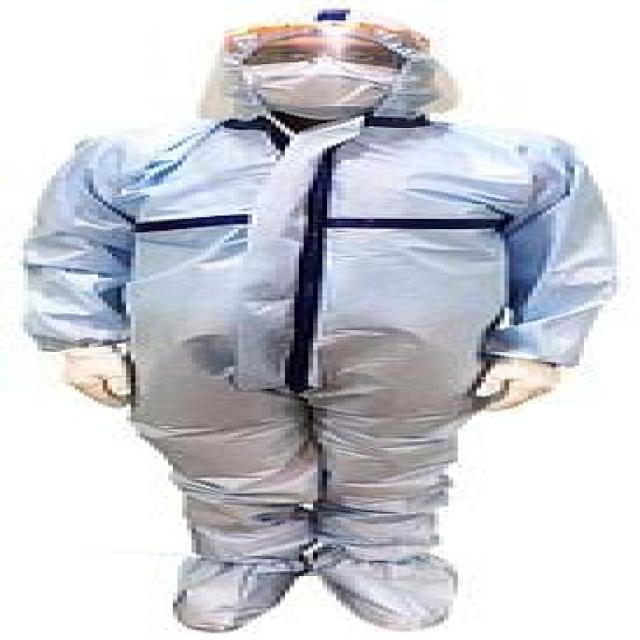Coverall: (18, 1, 612, 640)
Mask: (225, 59, 421, 116)
